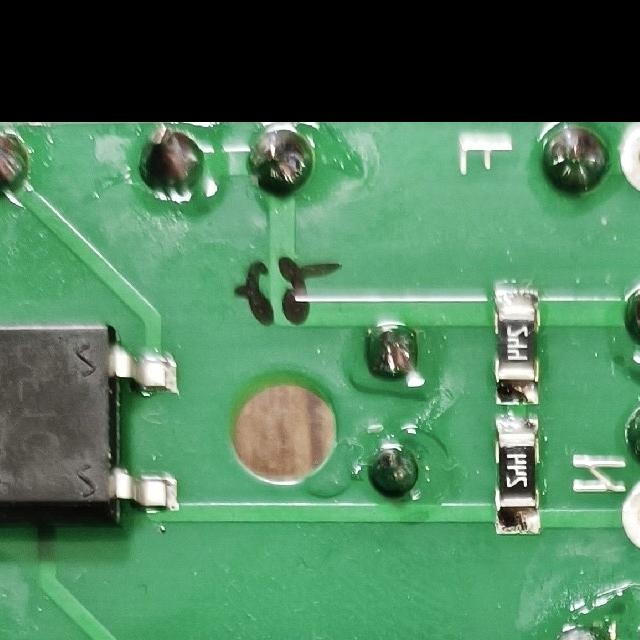chip-resistor: (492, 414, 543, 538), (491, 285, 541, 407)
ic: (0, 320, 180, 528)
